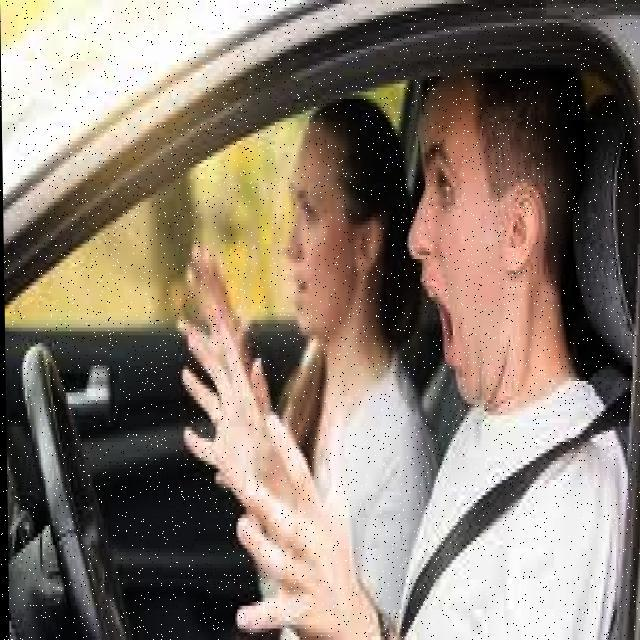seatbelt: (375, 369, 640, 640)
